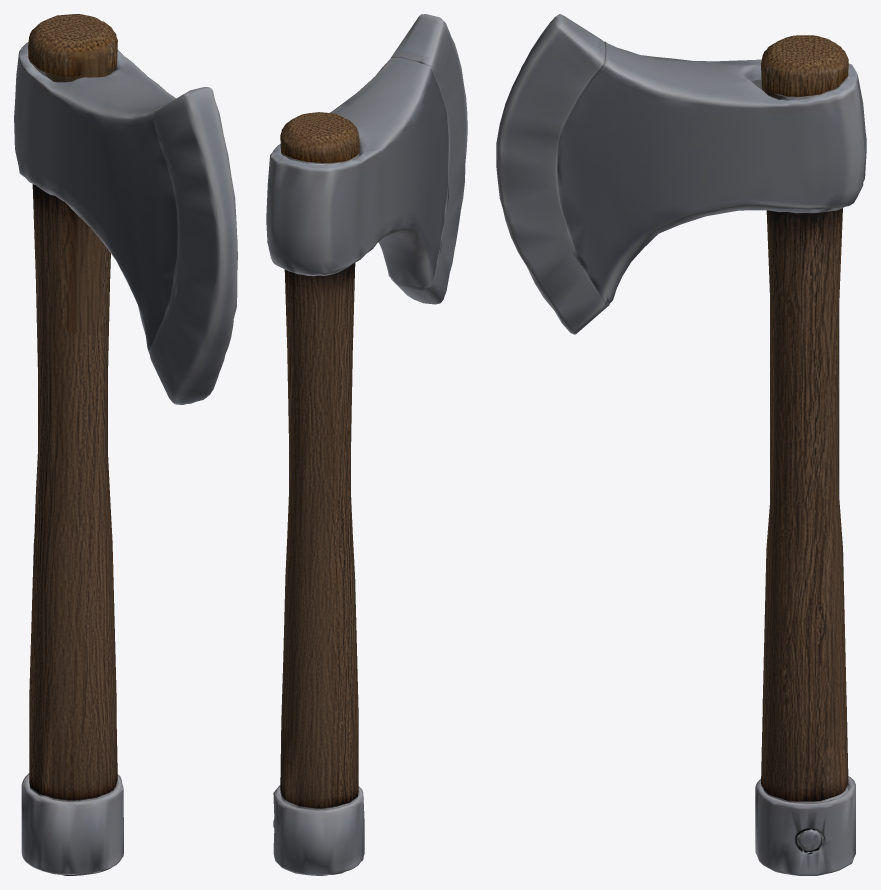
File: hand_axe.glb
The picture shows the model from 3 angles, left to right: view 1: azimuth 30°, elevation 25°; view 2: azimuth 150°, elevation 25°; view 3: azimuth 270°, elevation 25°; orthographic projection. The views are drawn at different scales.
Visible parts, largest first — view 1: tripo_node_27dd5767-f952-4b83-bb8b-497016254462; view 2: tripo_node_27dd5767-f952-4b83-bb8b-497016254462; view 3: tripo_node_27dd5767-f952-4b83-bb8b-497016254462.
Boxes of the visible parts, box(x1,y1,x2,y2) form: tripo_node_27dd5767-f952-4b83-bb8b-497016254462: box(14, 14, 237, 875); tripo_node_27dd5767-f952-4b83-bb8b-497016254462: box(266, 14, 467, 875); tripo_node_27dd5767-f952-4b83-bb8b-497016254462: box(496, 14, 866, 875).
Size of the model in its own units: 0.1113 by 0.998 by 0.3965.
1 material, 1 textured.
